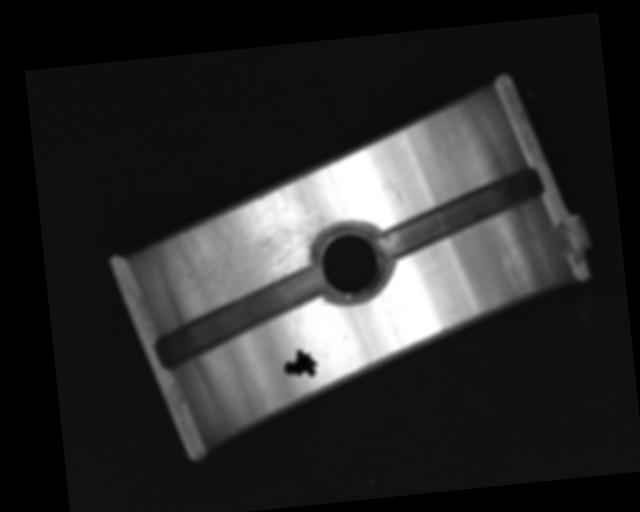blot: (280, 345, 321, 381)
gap: (153, 267, 328, 369), (372, 165, 547, 259)
hole: (308, 217, 393, 311)
nick: (498, 248, 523, 297)
scratch: (155, 164, 349, 316)
